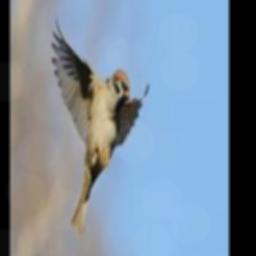Sparrow: (52, 15, 149, 235)
